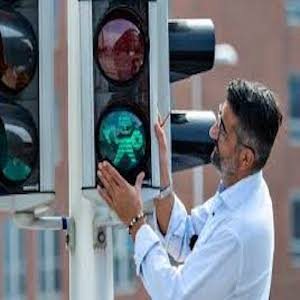green: (103, 112, 146, 168)
